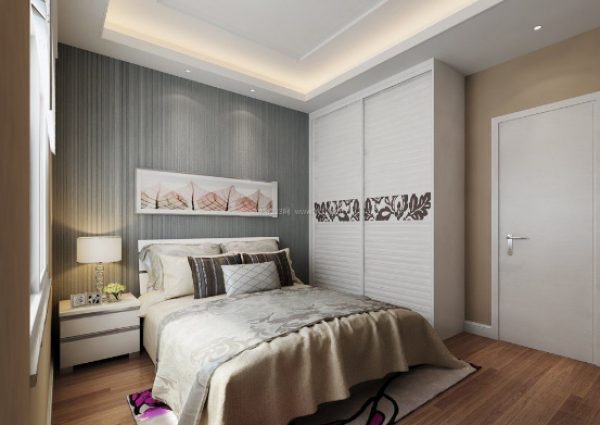床: (138, 281, 446, 422)
枕头: (141, 239, 290, 297), (138, 169, 276, 216)
灯: (69, 232, 122, 291), (533, 23, 549, 34), (249, 87, 261, 98), (181, 68, 194, 77)
